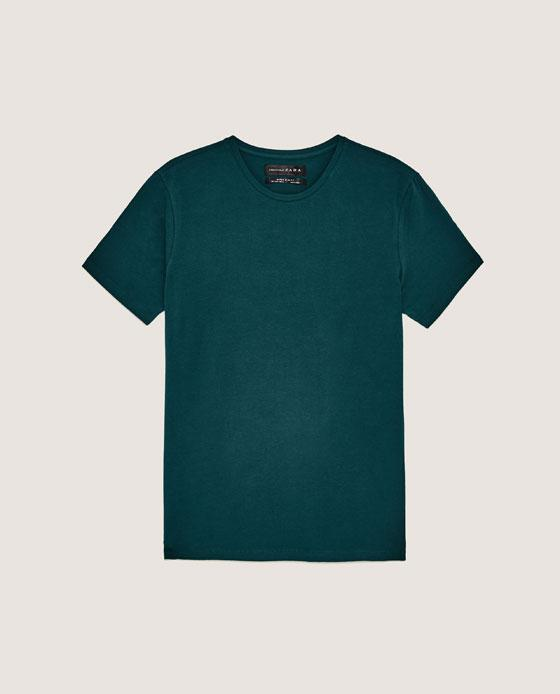teeshirt: (96, 132, 491, 596)
